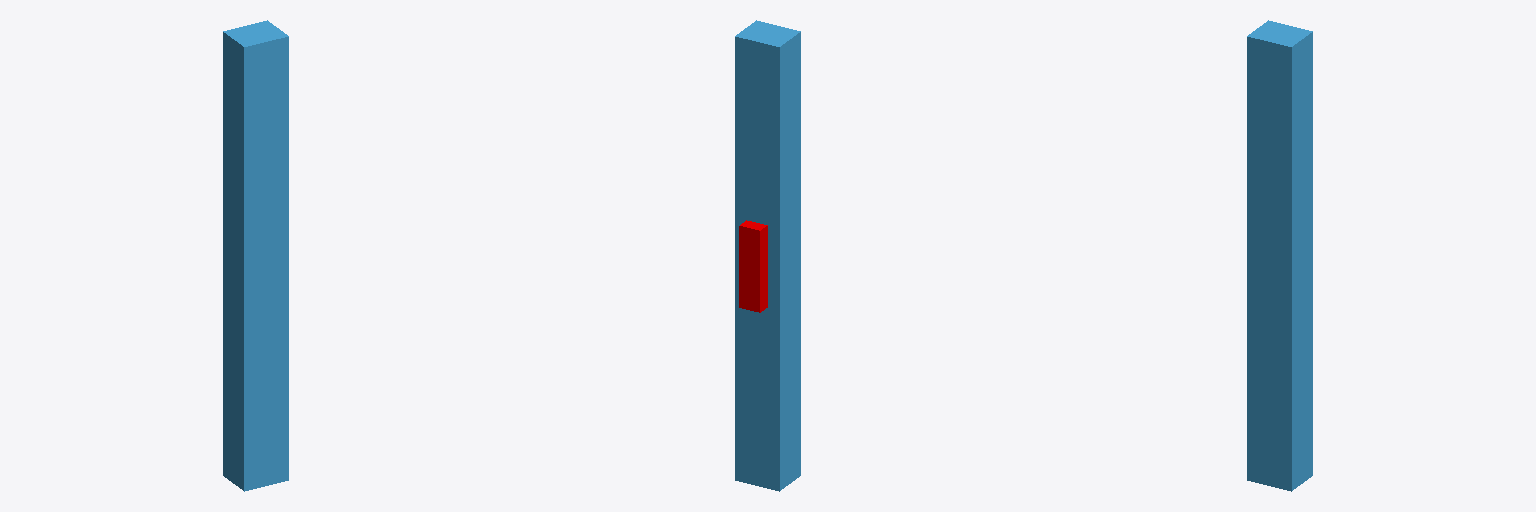
URDF robot description (knife):
<?xml version='1.0' encoding='utf-8'?>
<robot name="knife">
  <link name="link_1">
    <visual name="link_1">
      <origin xyz="0 0.008817 0" rpy="0 0 0" />
      <geometry>
        <box size="0.007386116314723915 0.004438036494004999 0.027567652907998418" /></geometry>
    <material name="red"><color rgba="1 0 0 1" /></material></visual>
    <collision>
      <origin xyz="0 0.008817 0" rpy="0 0 0" />
      <geometry>
        <box size="0.007386116314723915 0.004438036494004999 0.027567652907998418" /></geometry>
    </collision>
    </link>
  <joint name="joint_1" type="prismatic">
    <origin xyz="0 0 0" />
    <axis xyz="0 0 1" />
    <child link="link_1" />
    <parent link="link_0" />
    <limit lower="-0.036332" upper="0.013668" effort="100.0" velocity="1.0" />
  </joint>
  <link name="link_0">
    <visual name="link_0">
      <origin xyz="0 0 0" />
      <geometry>
        <box size="0.015740541752909155 0.0131960326833763 0.1490279767912003" /></geometry>
    </visual>
    <collision>
      <origin xyz="0 0 0" />
      <geometry>
        <box size="0.015740541752909155 0.0131960326833763 0.1490279767912003" /></geometry>
    </collision>
    </link>
</robot>

--- Render facts (derived) ---
The picture shows the robot from 3 angles, left to right: view 1: azimuth 30°, elevation 25°; view 2: azimuth 150°, elevation 25°; view 3: azimuth 330°, elevation 25°; orthographic projection.
Model knife with 2 links and 1 joints (1 prismatic), rooted at link_0, posed all joints at 0.
Links seen in each view (by area): view 1: link_0; view 2: link_0, link_1; view 3: link_0.
Link boxes in pixels (x1,y1,x2,y2): link_0: (223, 20, 288, 491); link_0: (735, 20, 800, 491); link_1: (739, 220, 767, 312); link_0: (1247, 20, 1312, 491).
Size in the robot's own frame: 0.0157 by 0.0176 by 0.149 metres.
Geometry: primitives only (box / cylinder / sphere), no mesh files.
